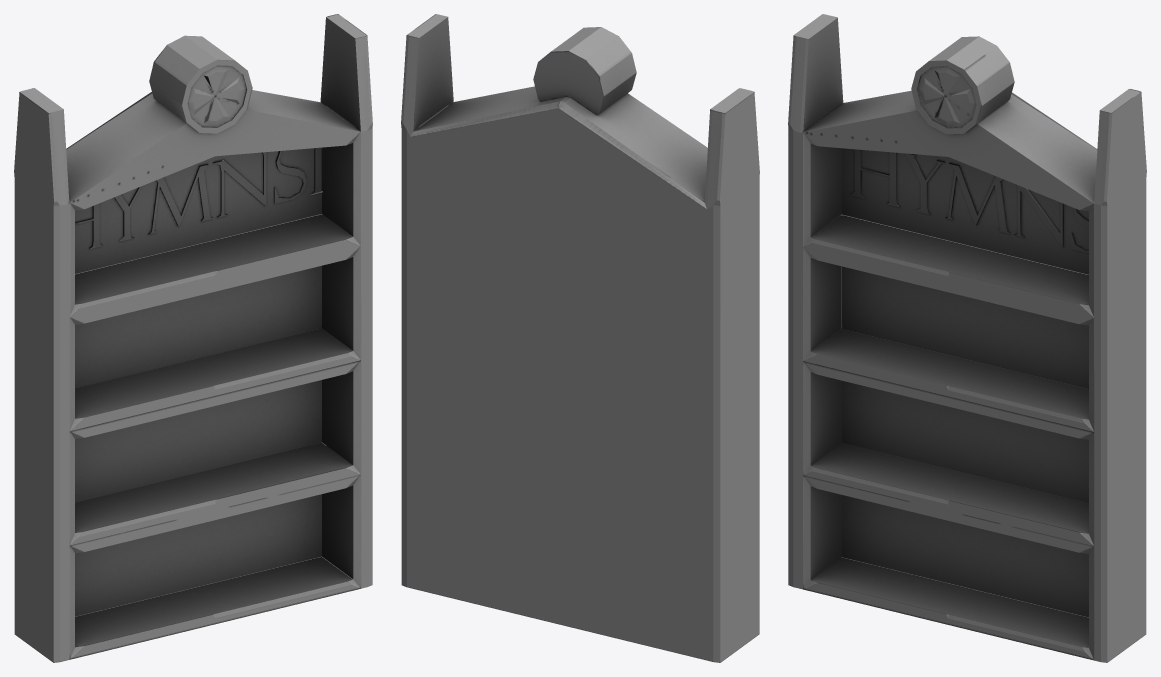
3 views of the same model, side by side, from view 1: azimuth 30°, elevation 25°; view 2: azimuth 150°, elevation 25°; view 3: azimuth 330°, elevation 25° (orthographic).
Parts seen in each view (by area): view 1: hymn; view 2: hymn; view 3: hymn.
Part boxes in pixels (<box>): hymn: <box>14,14,372,662</box>; hymn: <box>401,14,759,662</box>; hymn: <box>788,14,1146,662</box>.
Bounding box in the file's own units: 146 × 248 × 33.93.
1 material, 1 textured.
